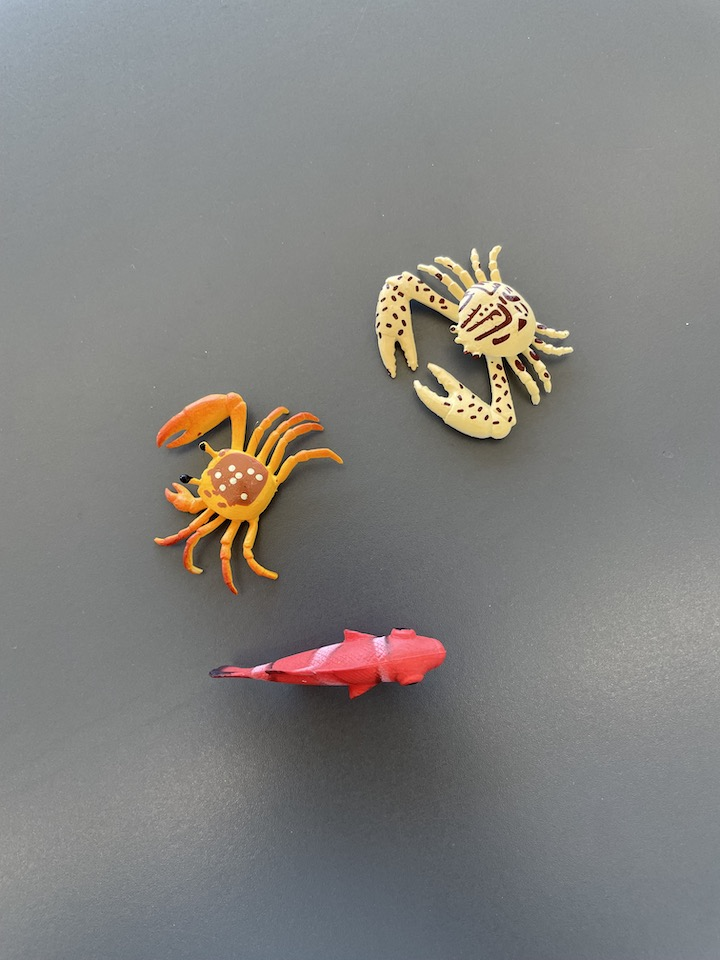crab: (367, 240, 581, 450), (144, 389, 349, 600)
fish: (203, 618, 453, 712)
